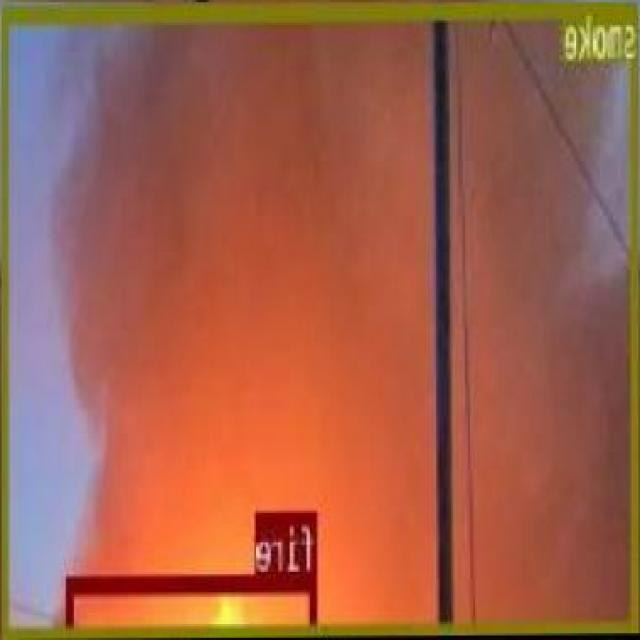smoke: (1, 2, 640, 639)
